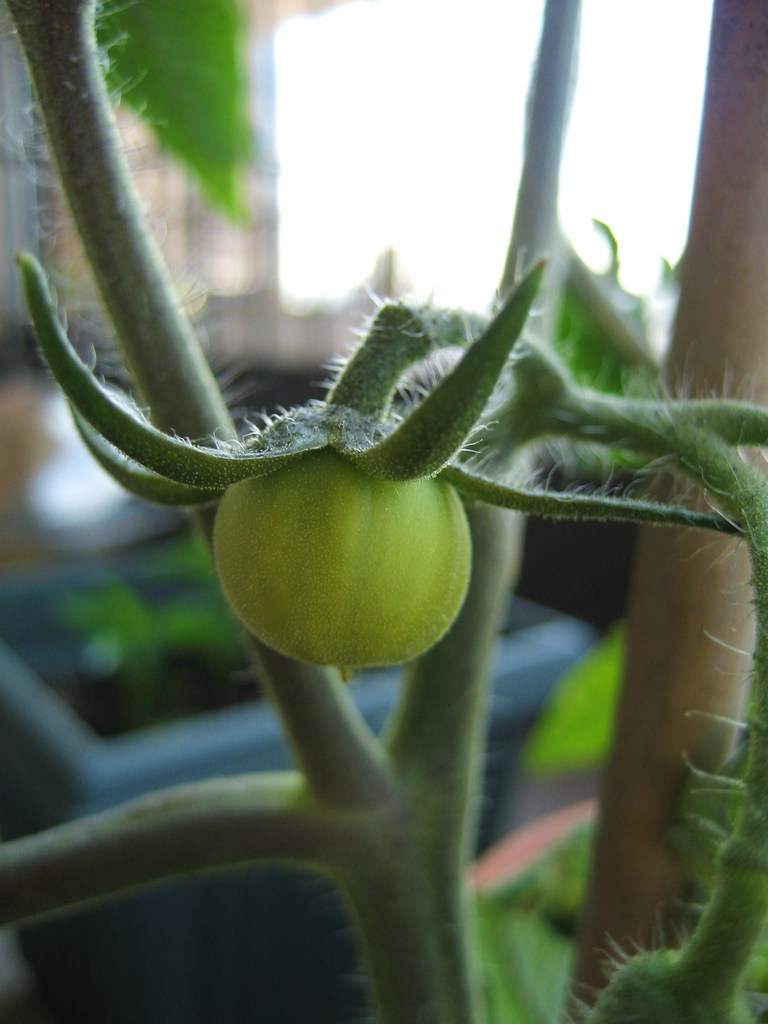Tomato: (14, 252, 767, 679)
